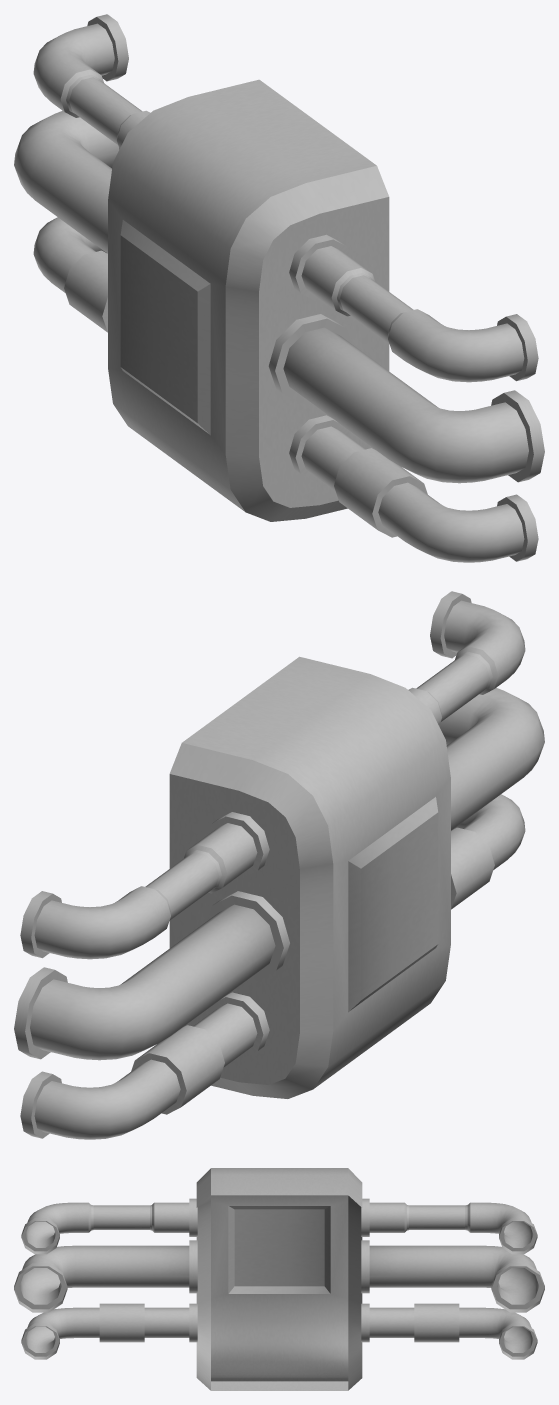
Rendered from wallPillarB.FBX.
3 views of the same model, one above another, from view 1: azimuth 30°, elevation 25°; view 2: azimuth 150°, elevation 25°; view 3: azimuth 270°, elevation 25° (orthographic). The views are drawn at different scales.
Parts seen in each view (by area): view 1: wallPillarB; view 2: wallPillarB; view 3: wallPillarB.
Part boxes in pixels (x1,y1,x2,y2): wallPillarB: (14, 14, 544, 562); wallPillarB: (14, 591, 544, 1139); wallPillarB: (14, 1168, 544, 1390).
Bounding box in the file's own units: 1.98 × 9.82 × 3.99.
